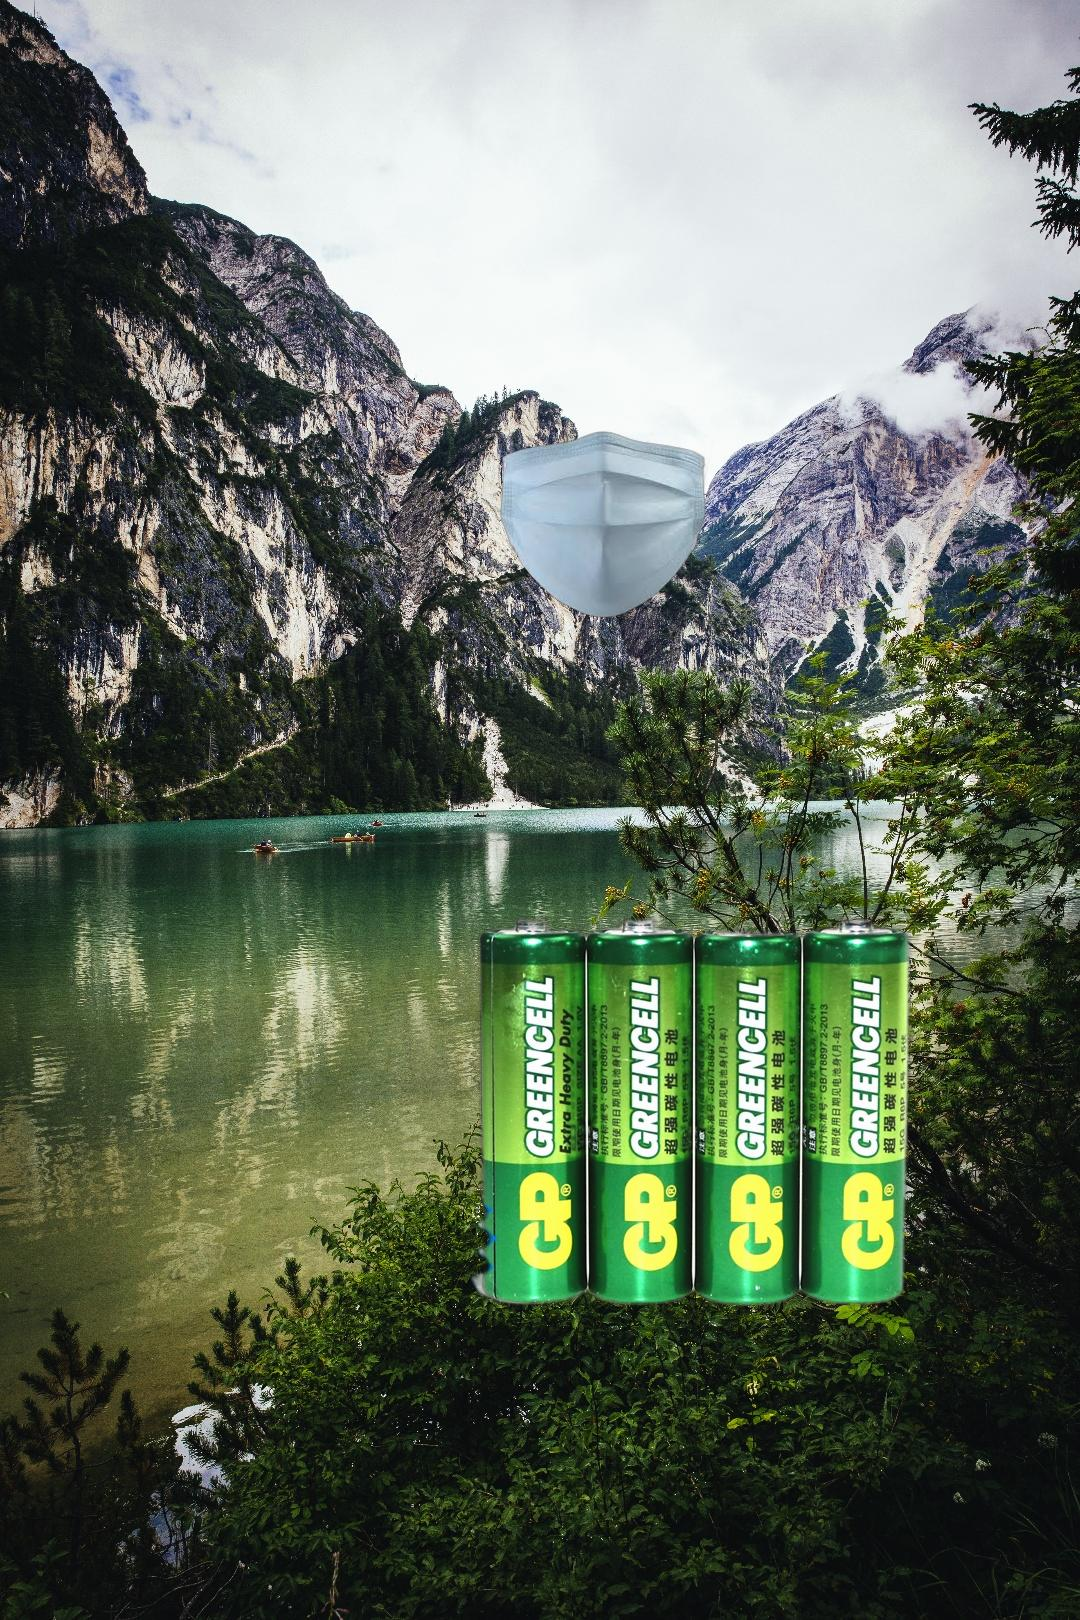battery: (463, 912, 918, 1313)
trash: (498, 429, 715, 620)
